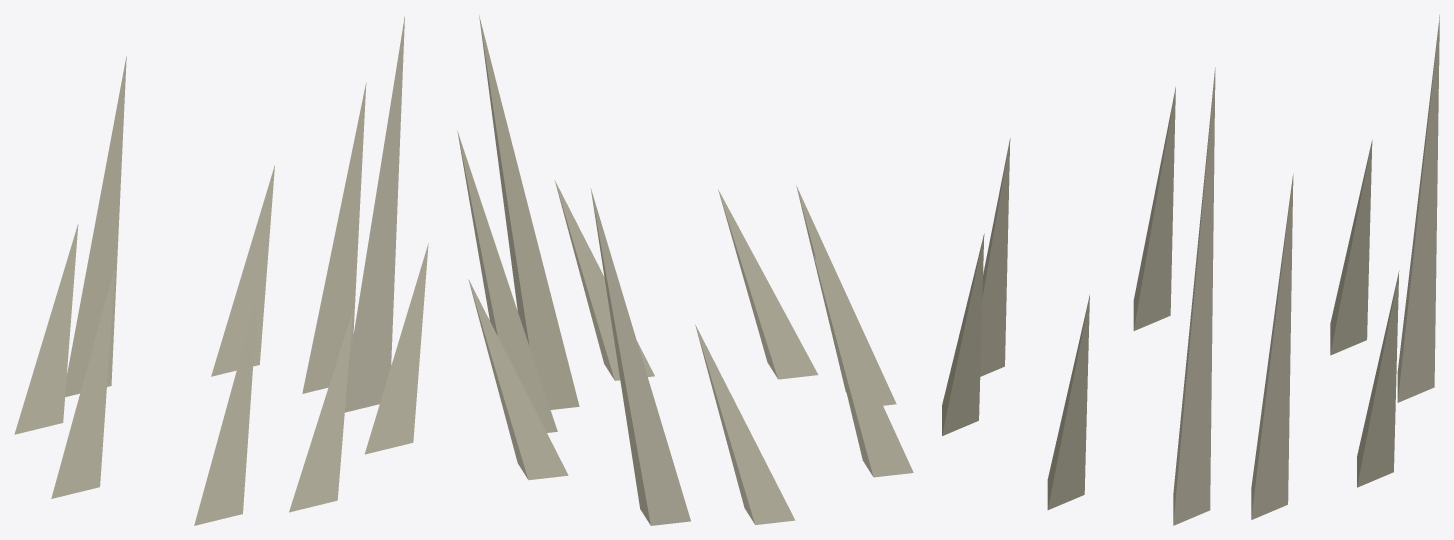
File: SM_ENV_Foliage_01_DryGrass.glb
The picture shows the model from 3 angles, left to right: view 1: azimuth 30°, elevation 25°; view 2: azimuth 150°, elevation 25°; view 3: azimuth 270°, elevation 25°; orthographic projection. The views are drawn at different scales.
Parts seen in each view (by area): view 1: SM_ENV_Foliage_01_DryGrass; view 2: SM_ENV_Foliage_01_DryGrass; view 3: SM_ENV_Foliage_01_DryGrass.
Boxes of the visible parts, x1,y1,x2,y2 form: SM_ENV_Foliage_01_DryGrass: (14, 16, 428, 525); SM_ENV_Foliage_01_DryGrass: (457, 15, 913, 525); SM_ENV_Foliage_01_DryGrass: (942, 15, 1439, 525).
Size of the model in its own units: 0.5518 by 0.5042 by 0.472.
